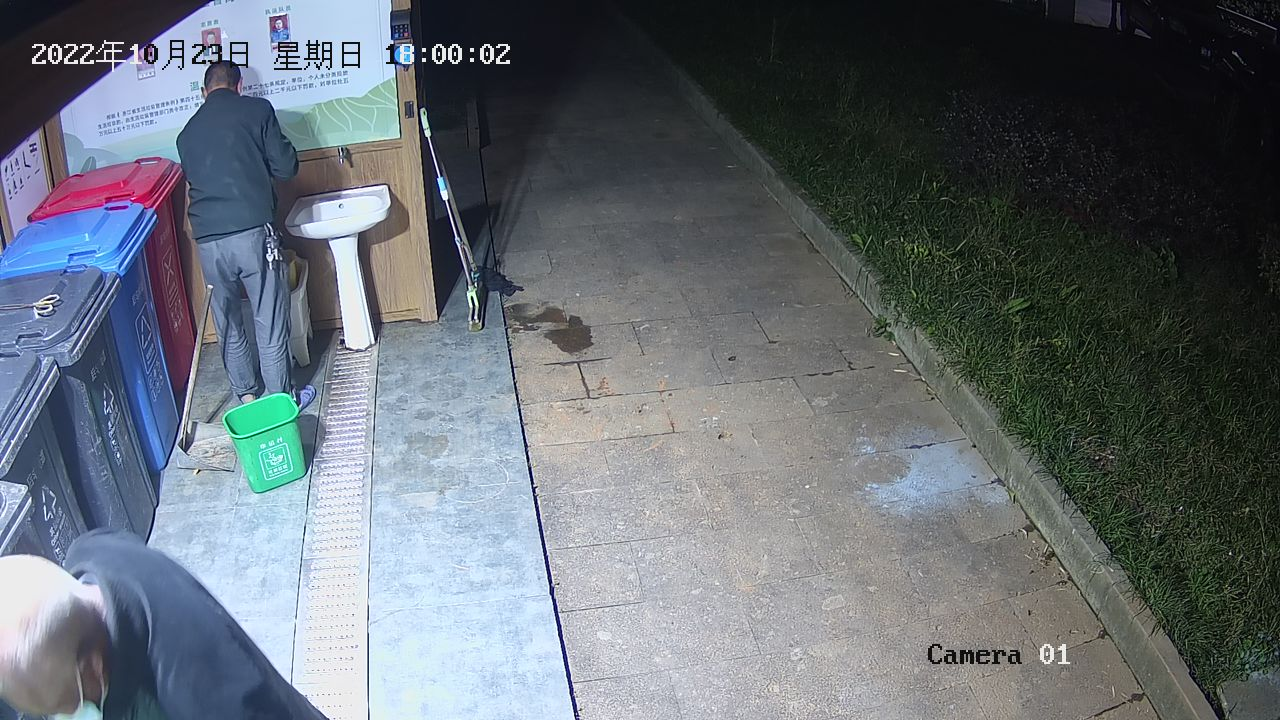person: (1, 524, 330, 720), (174, 58, 316, 415)
